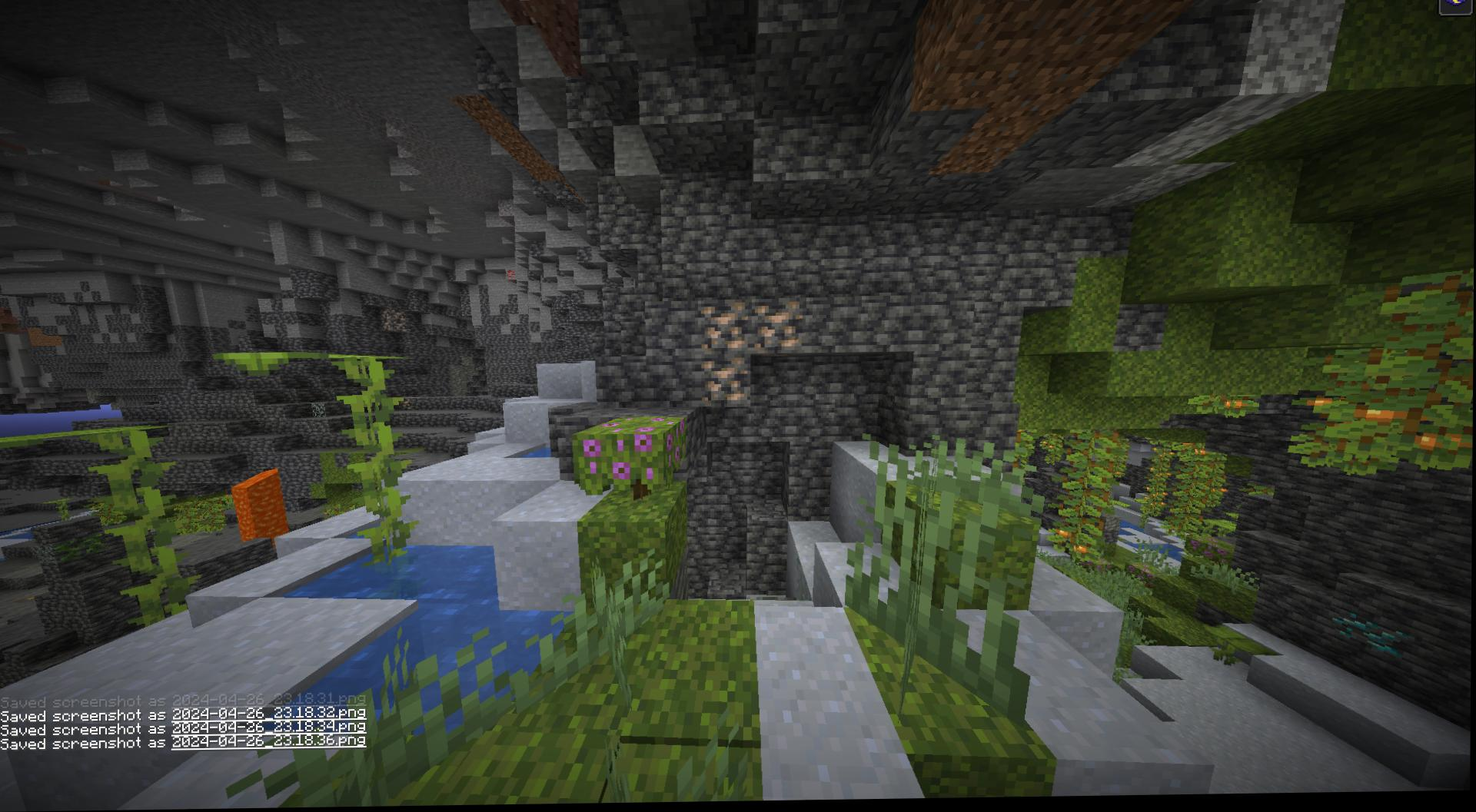diamond ore: (1331, 611, 1409, 662)
iron ore: (751, 302, 804, 354), (698, 357, 749, 408), (701, 304, 748, 354), (380, 309, 415, 337)
